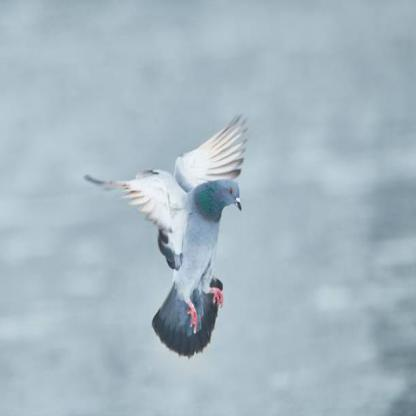Flying Rat: (97, 105, 265, 360)
